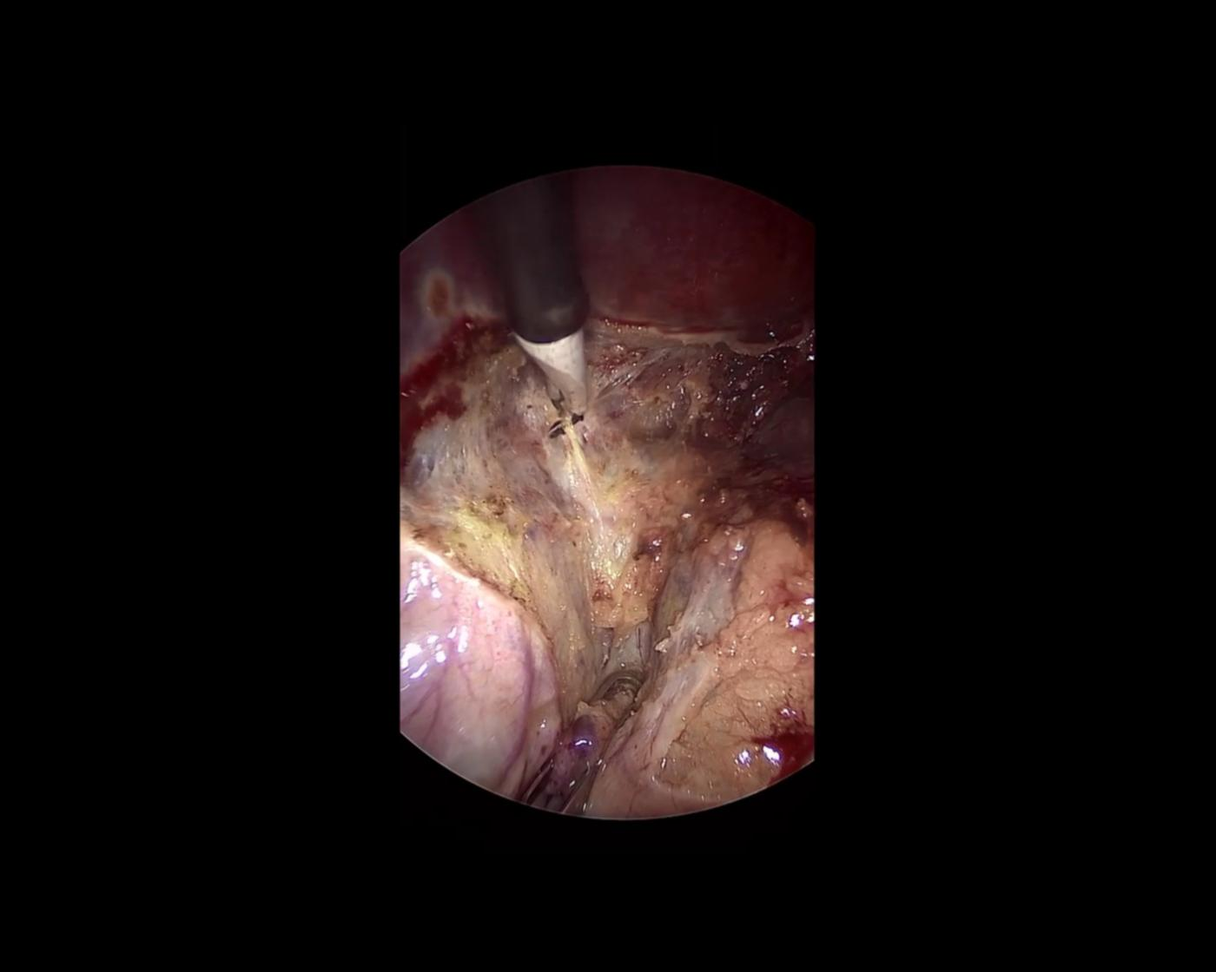Cautery: (483, 171, 612, 445)
Forceps: (513, 647, 655, 827)
Gallbladder: (400, 457, 816, 815)
Liver: (376, 134, 825, 375)
